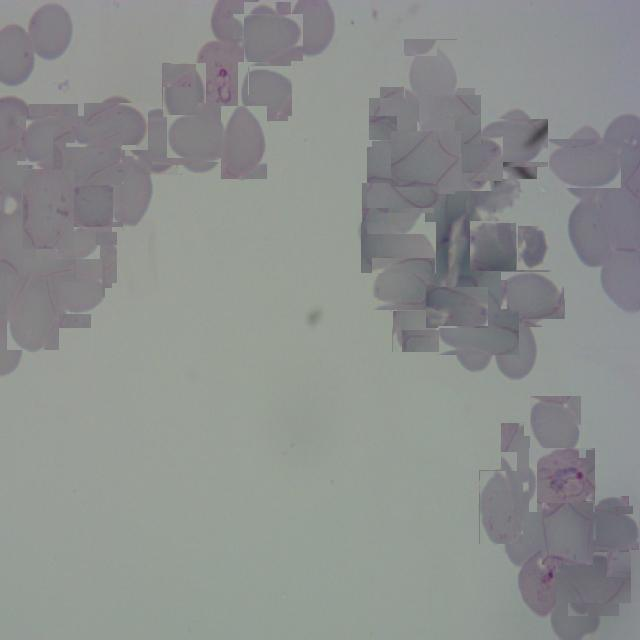leukocyte: (29, 252, 98, 321), (370, 144, 437, 210), (444, 300, 510, 365), (22, 169, 74, 249), (562, 546, 626, 610), (55, 124, 119, 188), (395, 127, 458, 191), (360, 221, 436, 273), (7, 275, 59, 350), (22, 110, 84, 172), (554, 132, 616, 194), (482, 113, 543, 173), (238, 8, 297, 67), (172, 109, 231, 168), (404, 39, 457, 104), (362, 183, 425, 237), (129, 112, 187, 170), (221, 106, 267, 179), (106, 156, 152, 228), (568, 197, 612, 272), (479, 470, 523, 544), (442, 128, 498, 186), (542, 503, 593, 565), (505, 268, 561, 324), (422, 91, 478, 147), (504, 490, 547, 562), (88, 99, 144, 154), (59, 230, 114, 286), (64, 176, 118, 232), (26, 0, 74, 63), (392, 288, 439, 352), (236, 64, 290, 119), (530, 396, 581, 454), (580, 502, 634, 556), (374, 92, 428, 146), (494, 316, 538, 382), (372, 262, 430, 312), (500, 422, 546, 483), (162, 63, 206, 126), (431, 281, 483, 333), (469, 222, 518, 270), (517, 225, 549, 270)
schizont: (196, 39, 248, 122), (530, 447, 595, 512)
